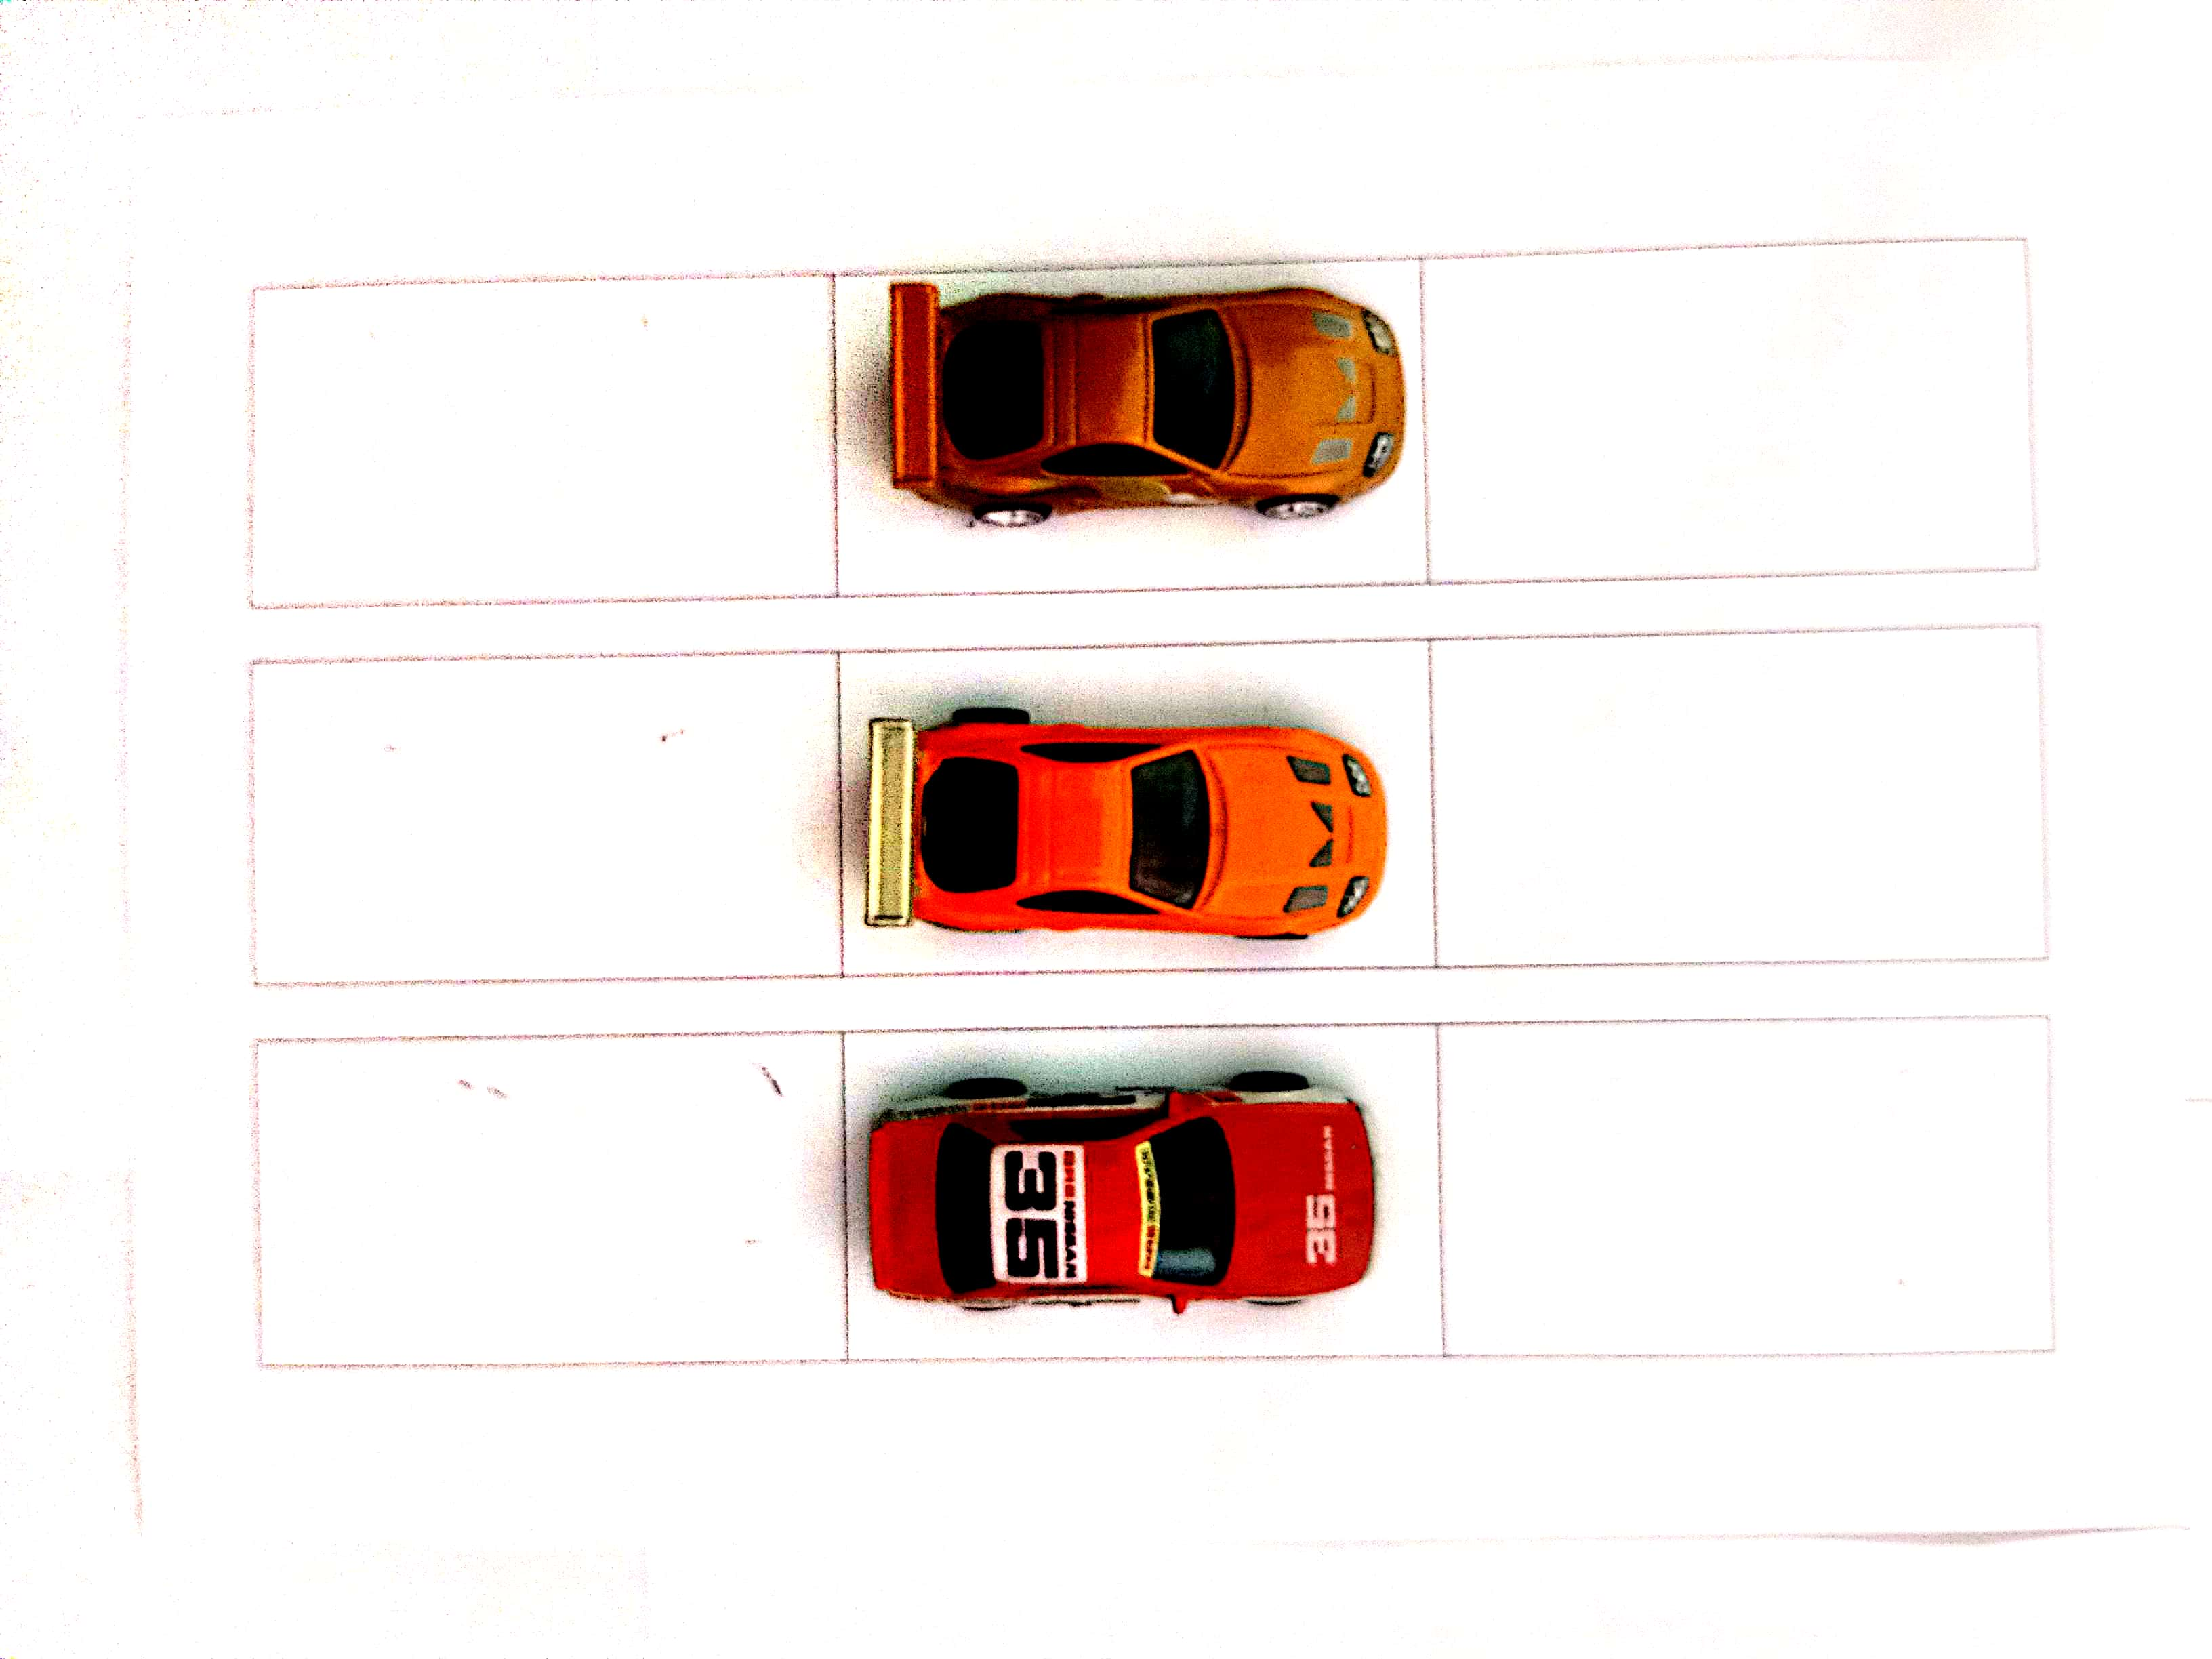Busy: (827, 640, 1423, 979), (845, 1023, 1446, 1351), (845, 263, 1423, 586)
Free: (1437, 631, 2038, 967), (1458, 1014, 2045, 1349), (1433, 253, 2026, 575), (247, 279, 836, 601), (260, 650, 826, 985), (261, 1028, 836, 1354)
